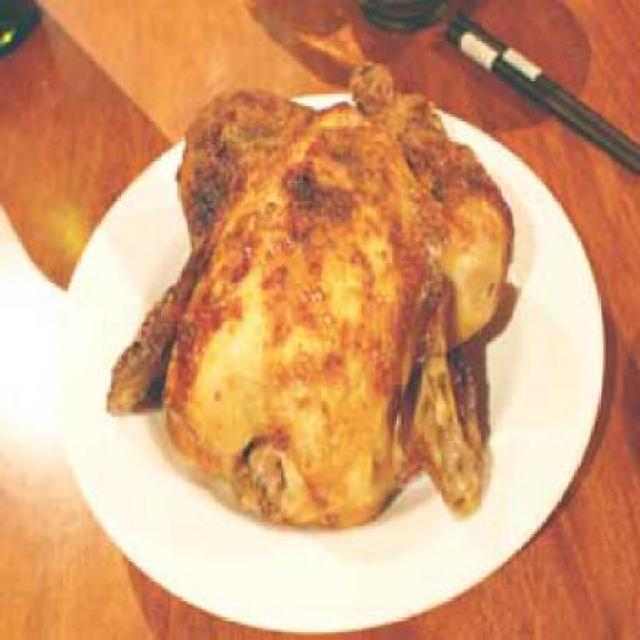Chicken roast: (147, 45, 510, 527)
